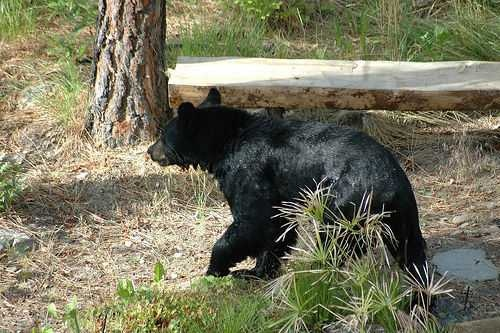bear: (139, 80, 267, 208)
